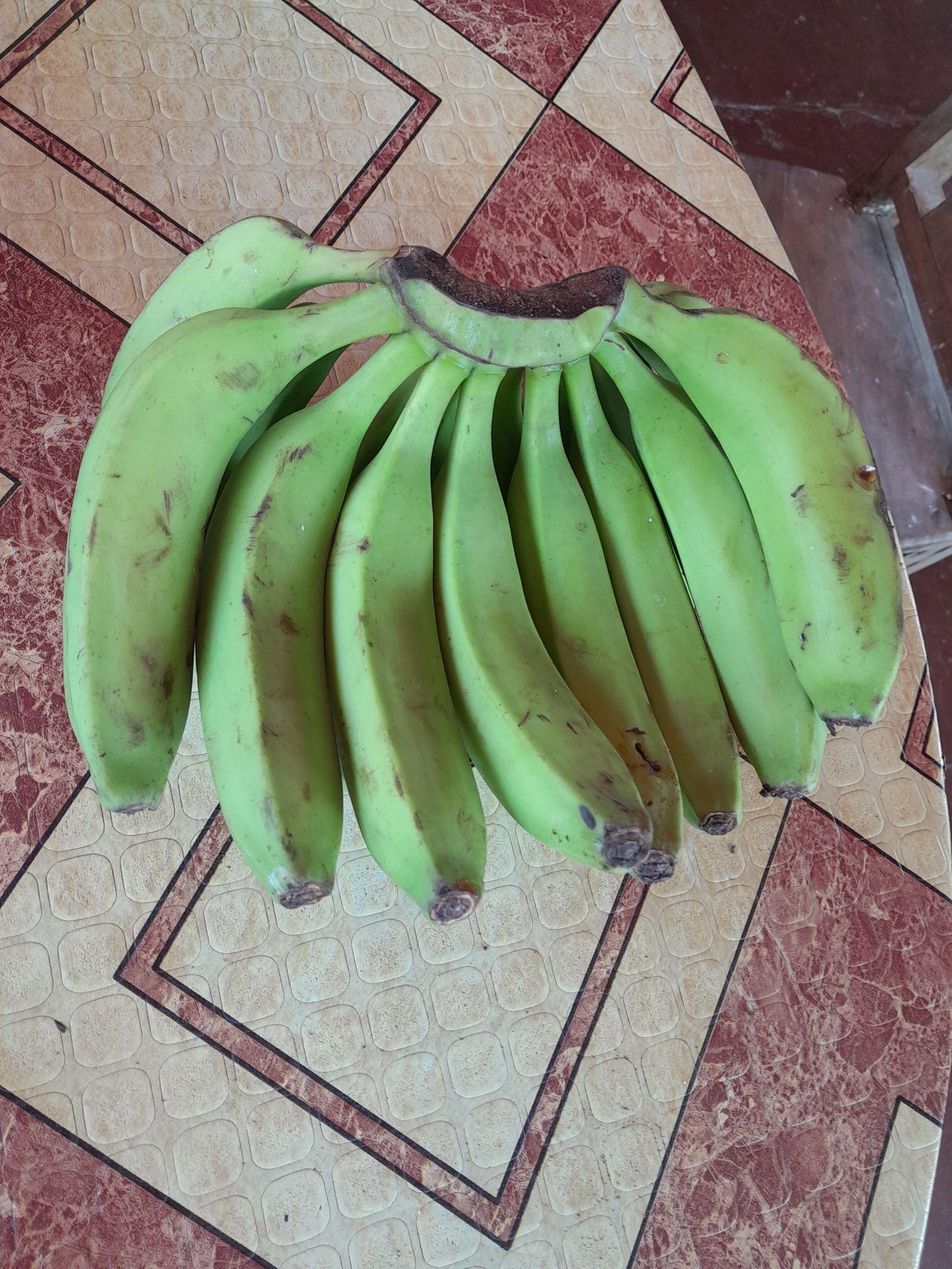Banana Unripe: (64, 285, 402, 810), (196, 335, 426, 907), (615, 283, 902, 724), (434, 364, 652, 867), (595, 332, 826, 798), (327, 354, 486, 920), (508, 367, 682, 872), (560, 362, 741, 835), (104, 216, 394, 398)
